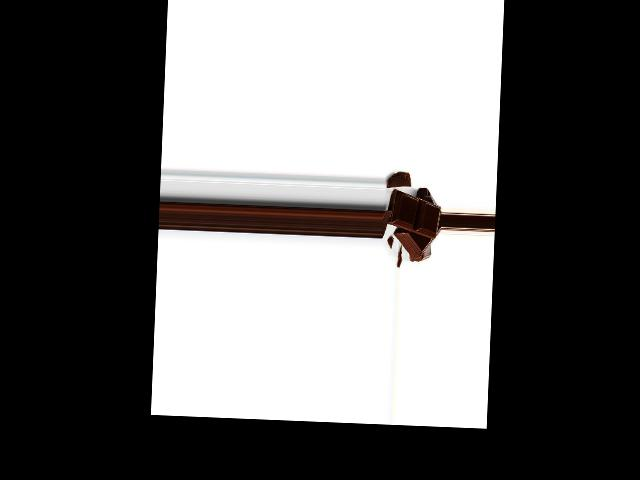chocolate: (388, 191, 439, 239)
